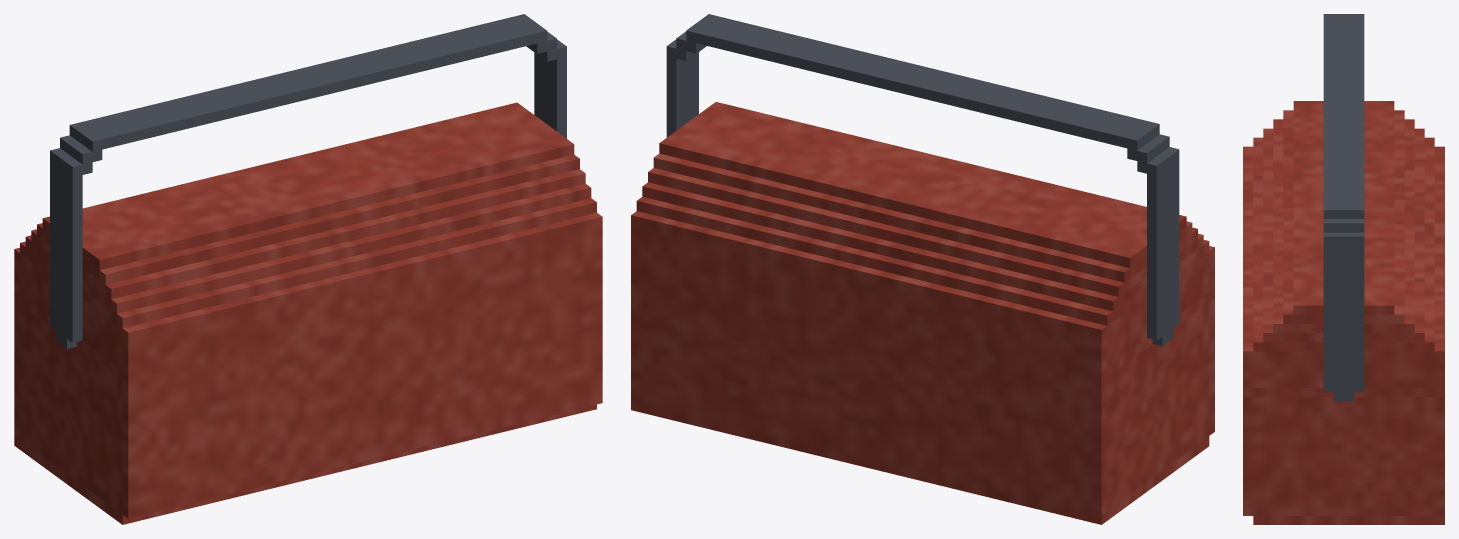
Rendered from MediumObject_Toolbox.fbx.
The picture shows the model from 3 angles, left to right: view 1: azimuth 30°, elevation 25°; view 2: azimuth 150°, elevation 25°; view 3: azimuth 270°, elevation 25°; orthographic projection. The views are drawn at different scales.
Parts seen in each view (by area): view 1: Toolbox; view 2: Toolbox; view 3: Toolbox.
Part boxes in pixels (box(x1,y1,x2,y2)): Toolbox: box(14, 14, 602, 524); Toolbox: box(631, 14, 1214, 524); Toolbox: box(1243, 14, 1444, 524).
Bounding box in the file's own units: 50 × 34 × 20.
